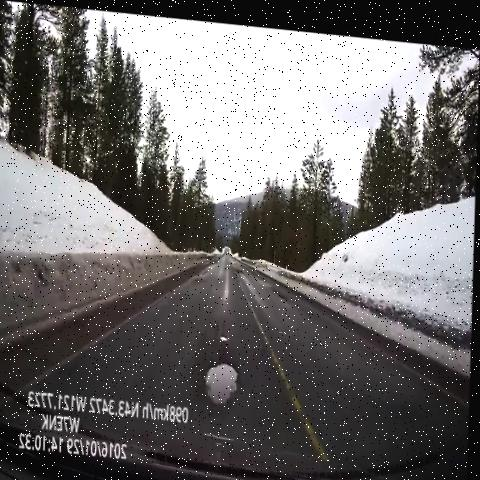pothole: (202, 352, 248, 412), (218, 324, 233, 343)
